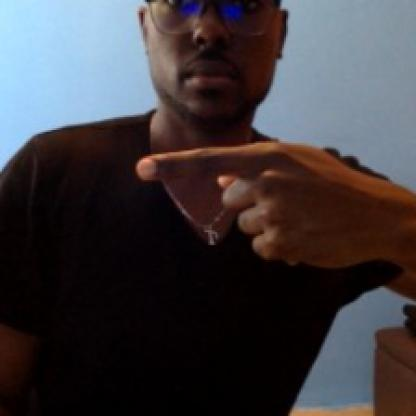TURN RIGHT: (123, 117, 402, 280)
